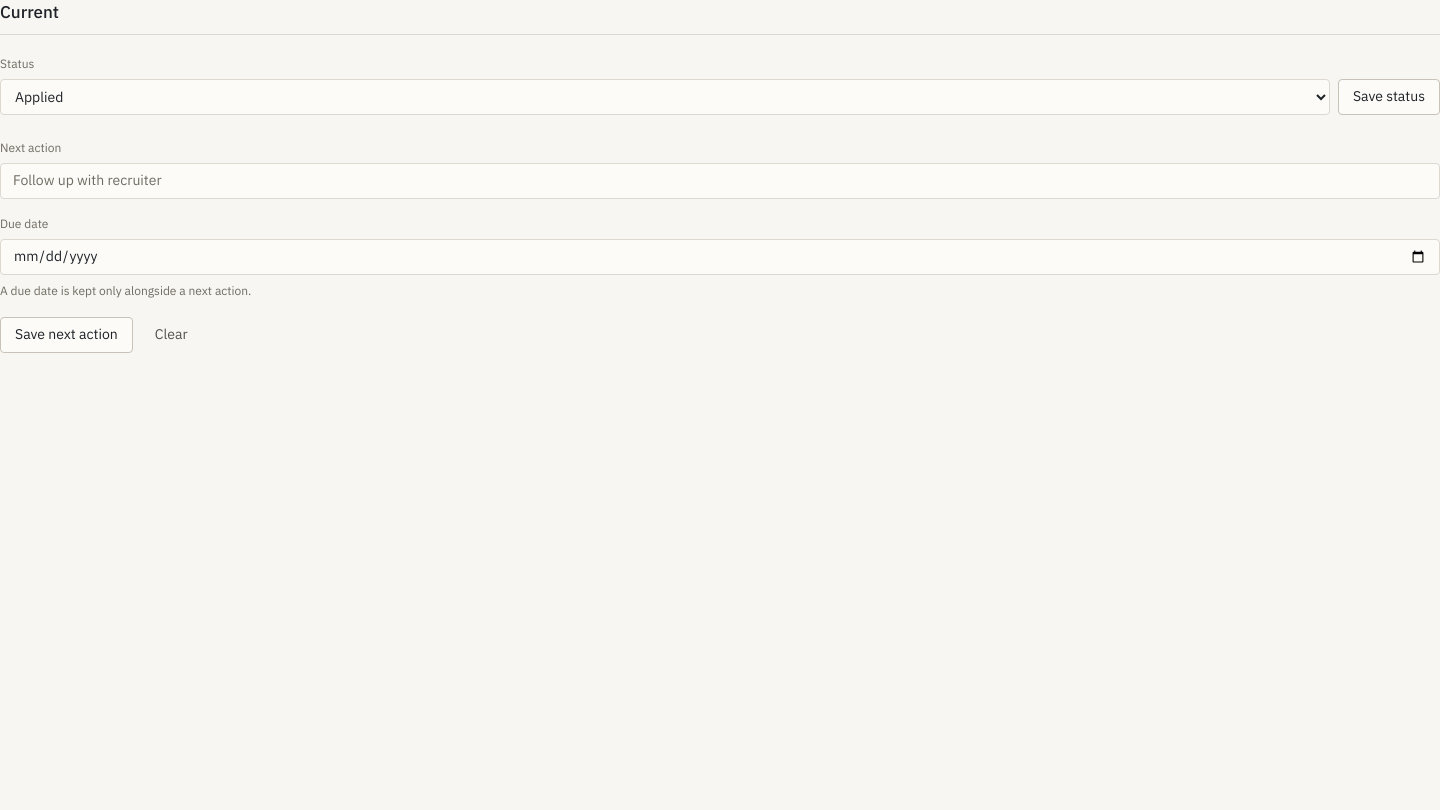
it: an unusual status change is confirmed before it saves › leaves the chosen value in place and saves nothing when cancelled
This screenshot has width=1440, height=810.
Select "Interested" in the dropdown labelled "Status" at (665, 96), box [0,78,1330,114]
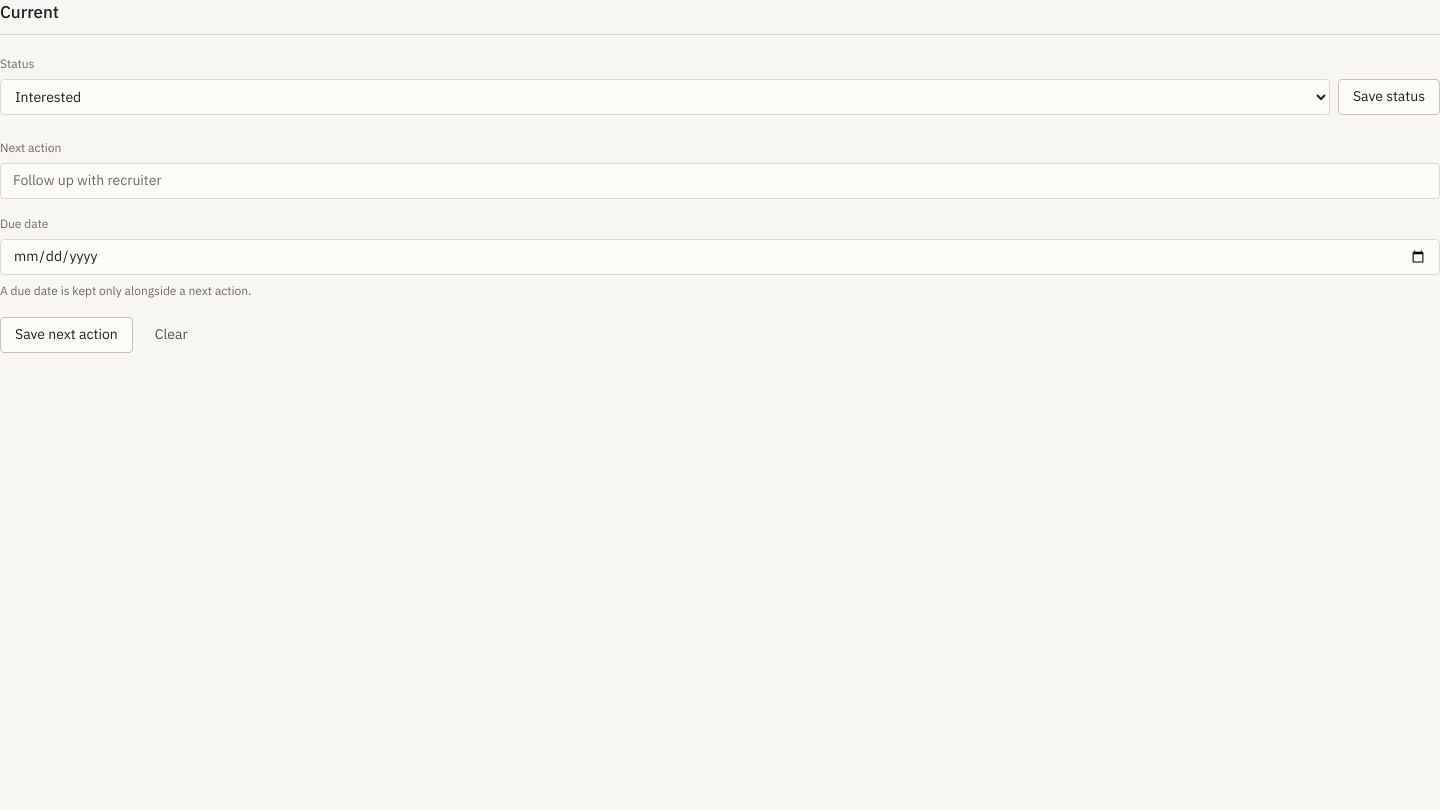
Click the button "Save status" at (1389, 96), box [1338,78,1439,114]
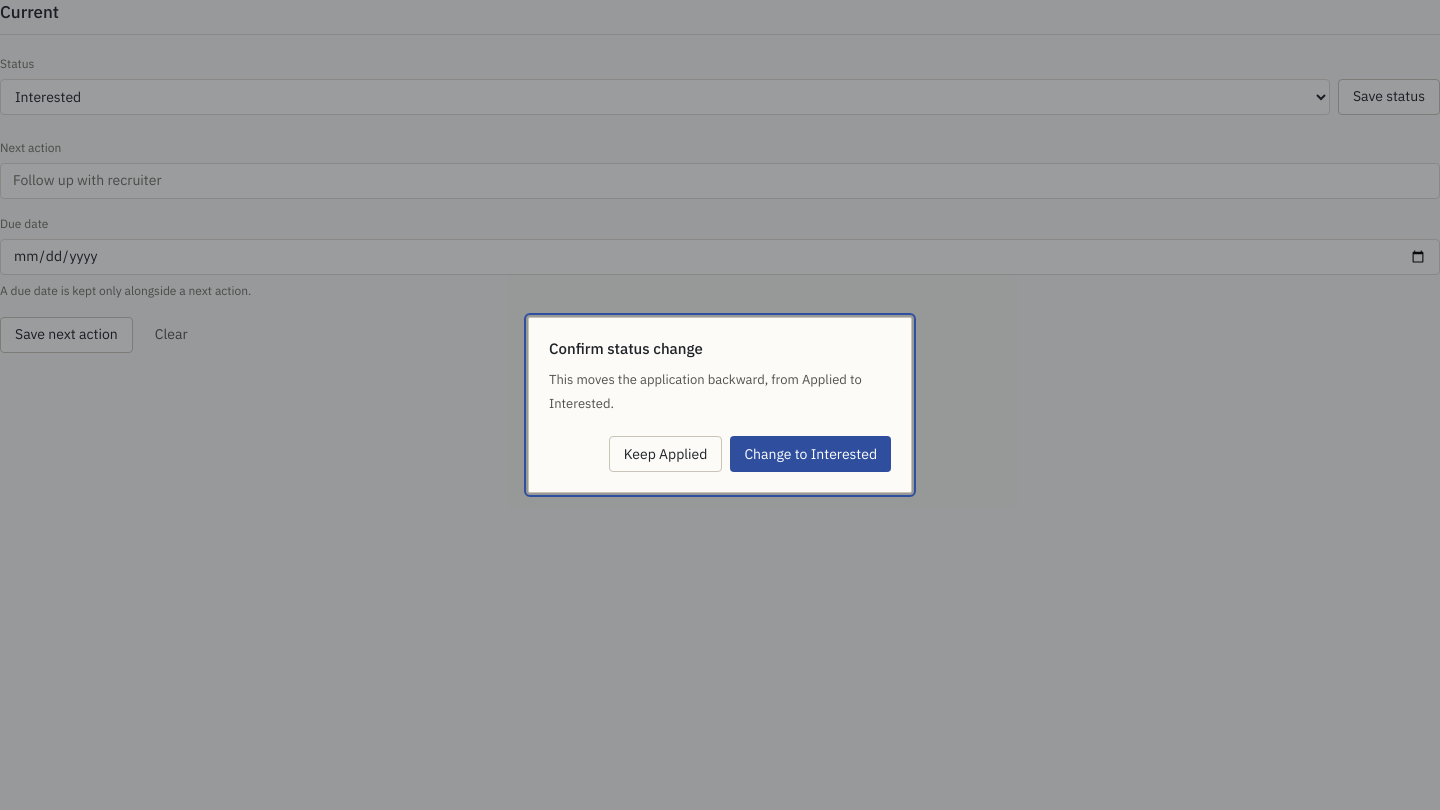
Click the button "Keep Applied" at (666, 454), box [609,436,722,472]
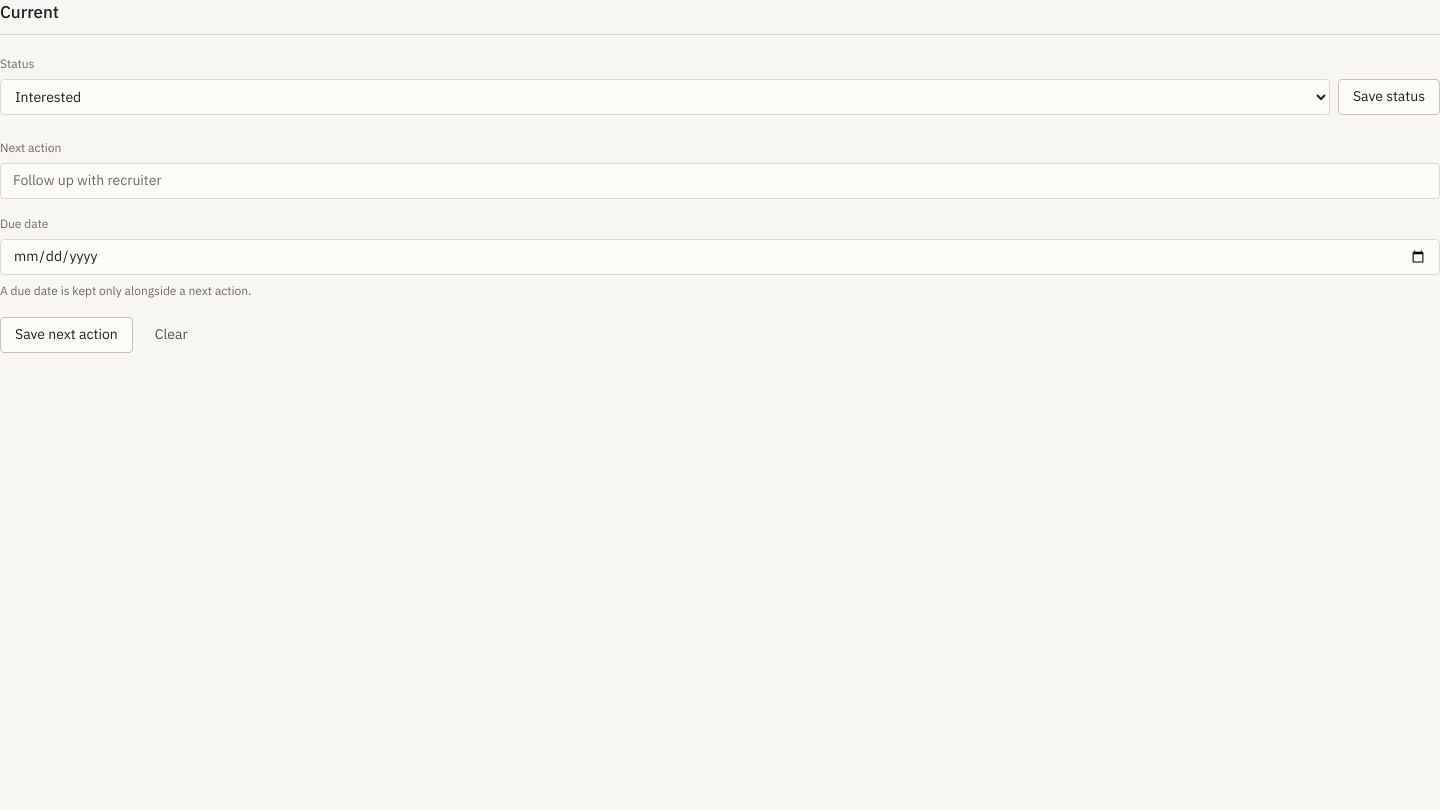
Result: the heading "Confirm status change" is gone
